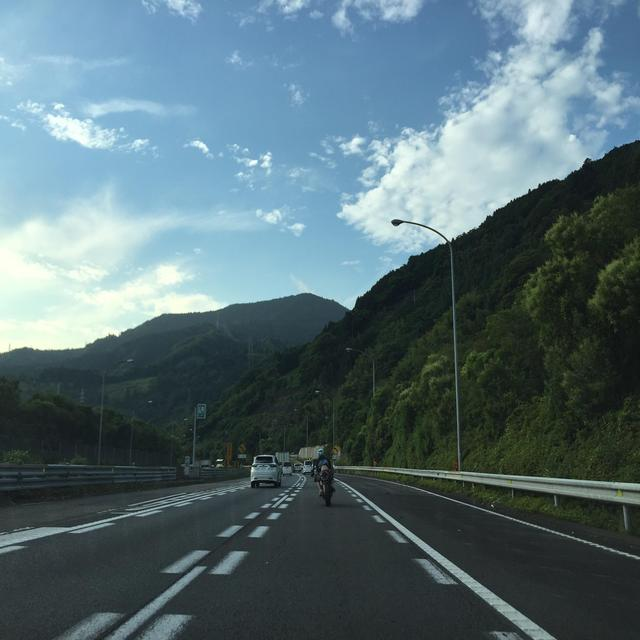Car: (251, 454, 317, 487)
Motorcycle: (320, 471, 332, 506)
Vegetation: (378, 472, 624, 532), (0, 449, 250, 505)
